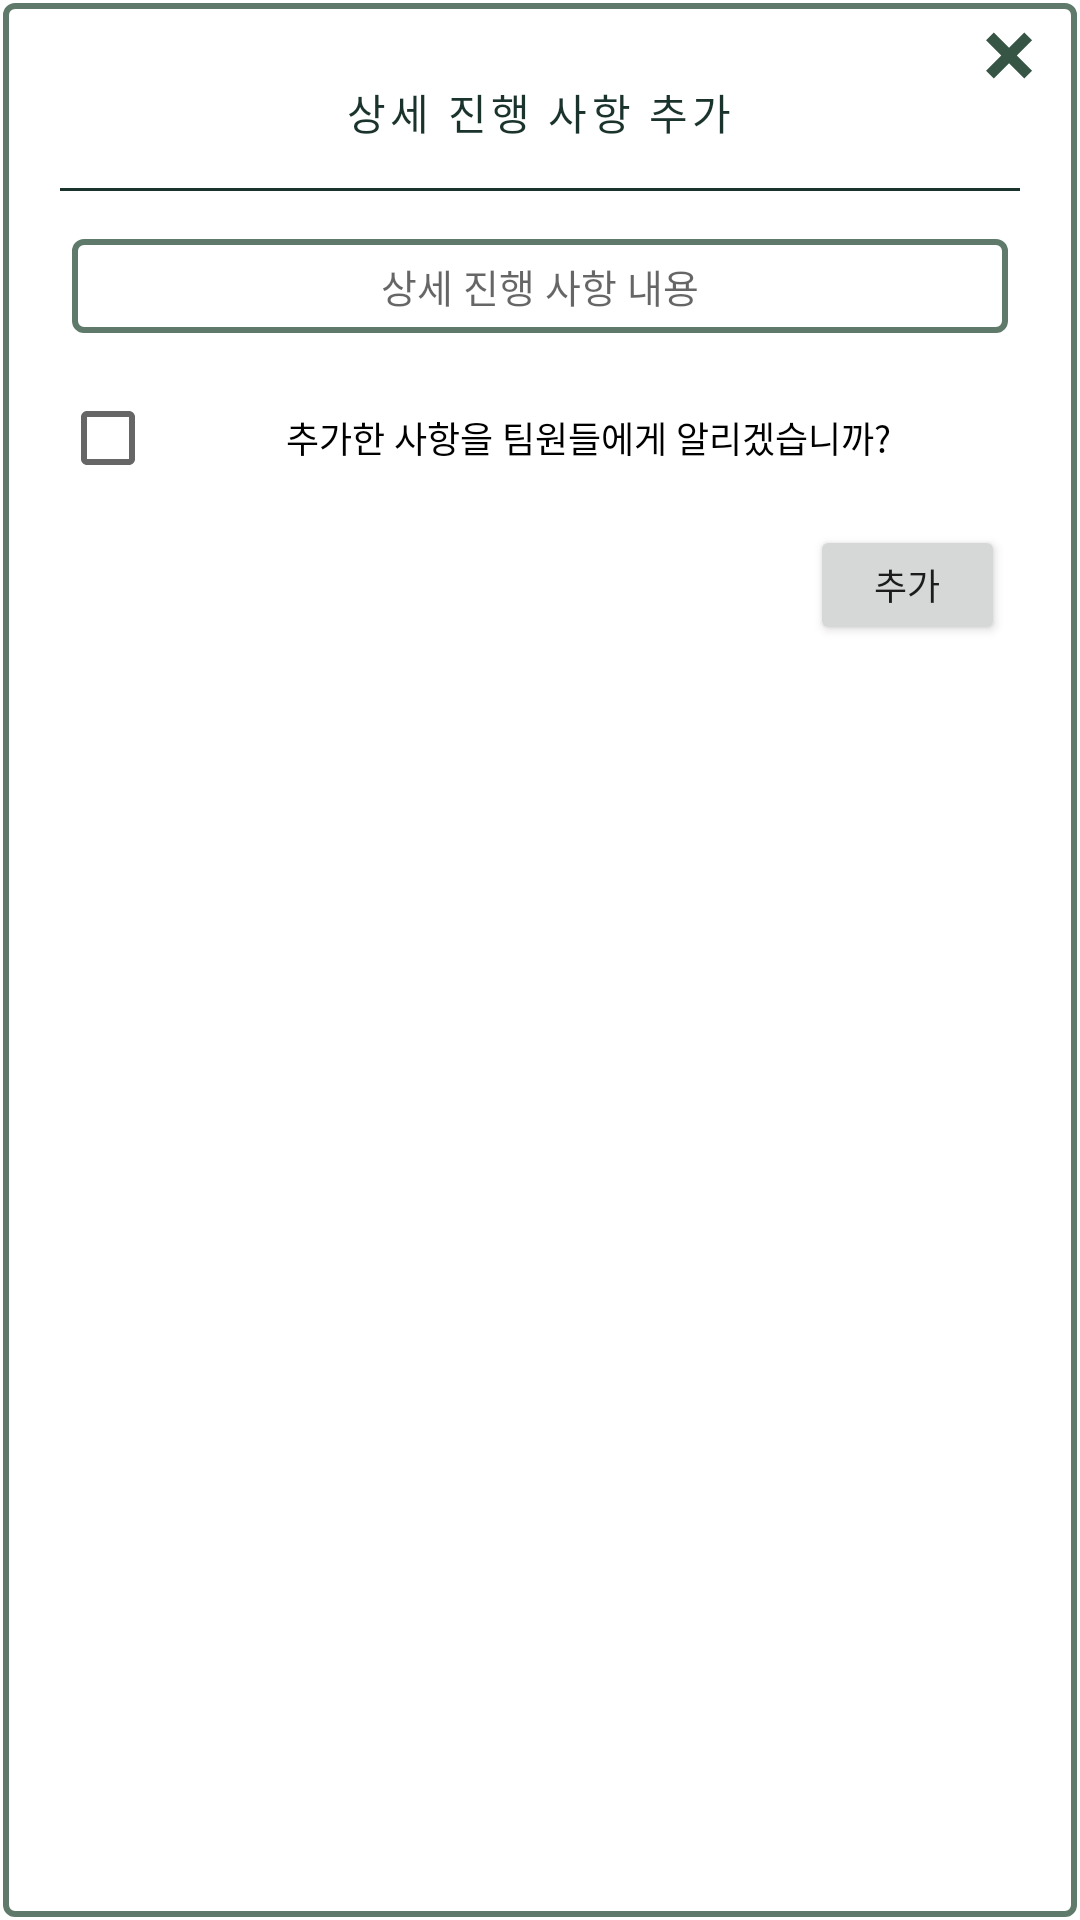

Named icons in this screenshot (1080px×1920px) and their centers, [x,y]:
cancel: [1009,55]
